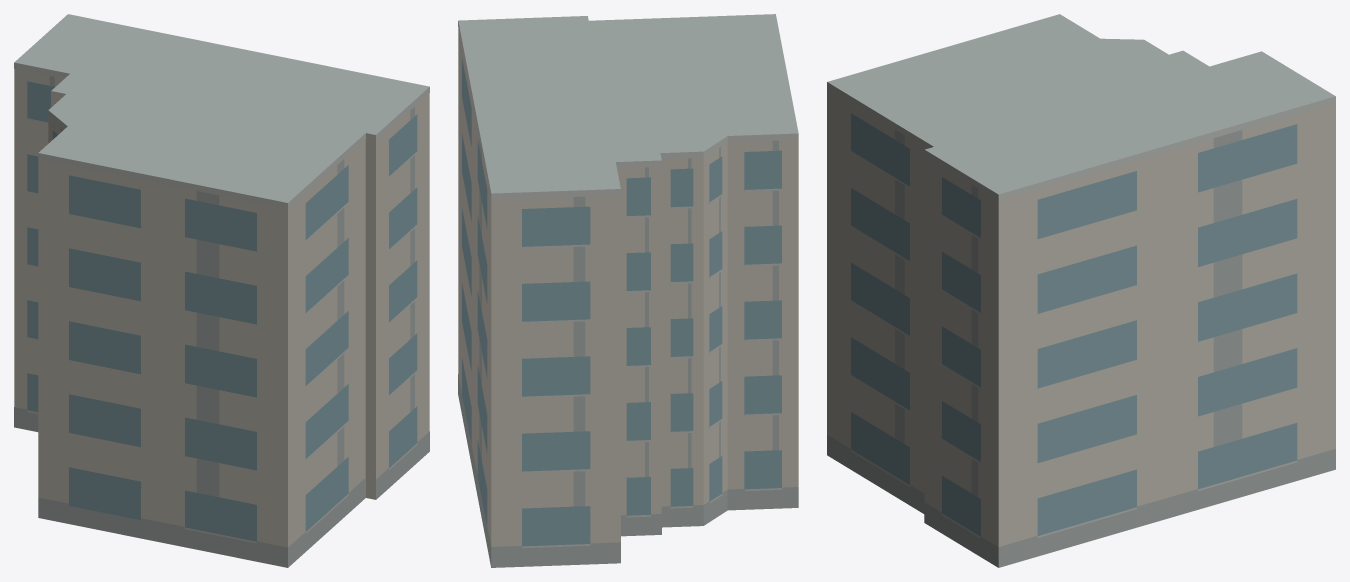
The model's file is survey-upis-33023490.glb.
The picture shows the model from 3 angles, left to right: view 1: azimuth 30°, elevation 25°; view 2: azimuth 150°, elevation 25°; view 3: azimuth 270°, elevation 25°; orthographic projection. The views are drawn at different scales.
Visible parts, largest first — view 1: survey-upis-33023490.tmp; view 2: survey-upis-33023490.tmp; view 3: survey-upis-33023490.tmp.
Part boxes in pixels (x1,y1,x2,y2): survey-upis-33023490.tmp: (14,14,429,567); survey-upis-33023490.tmp: (458,14,798,567); survey-upis-33023490.tmp: (827,14,1335,567).
Size of the model in its own units: 14.84 by 14.3 by 17.67.
